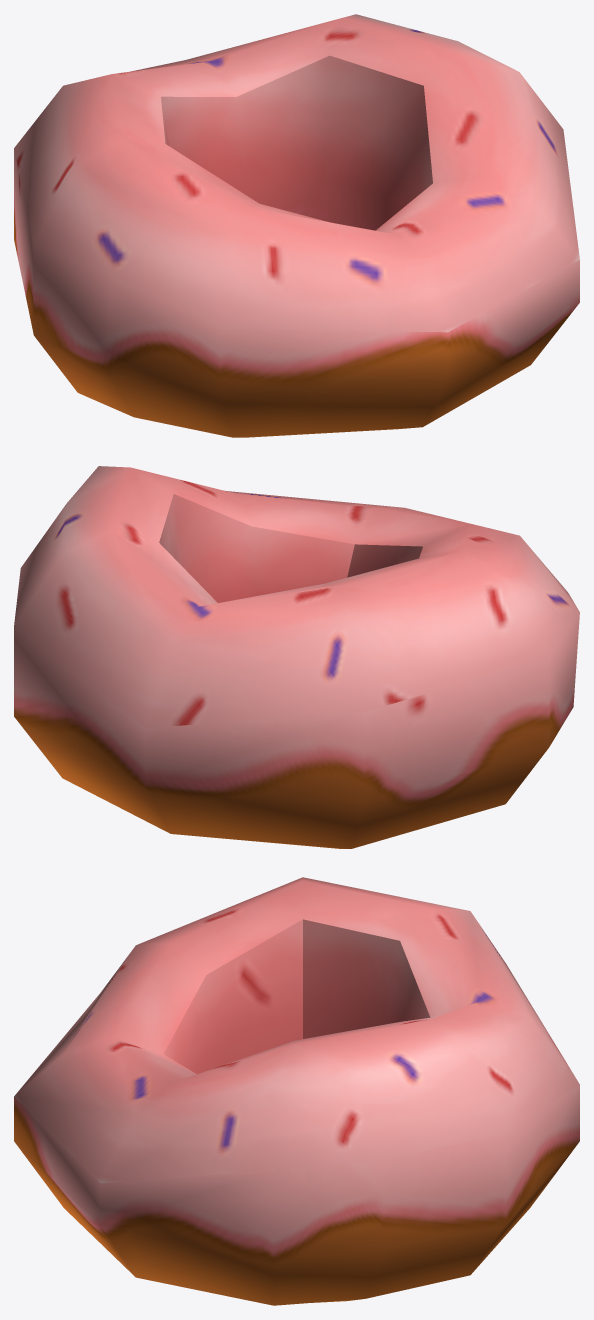
File: donut.FBX
3 views of the same model, one above another, from view 1: azimuth 30°, elevation 25°; view 2: azimuth 150°, elevation 25°; view 3: azimuth 270°, elevation 25° (orthographic).
Visible parts, largest first — view 1: donut; view 2: donut; view 3: donut.
Boxes of the visible parts, left/top/right/bottom form: donut: left=14, top=14, right=579, bottom=437; donut: left=14, top=466, right=579, bottom=848; donut: left=14, top=877, right=579, bottom=1305.
Bounding box in the file's own units: 4.26 × 2.1 × 4.12.
